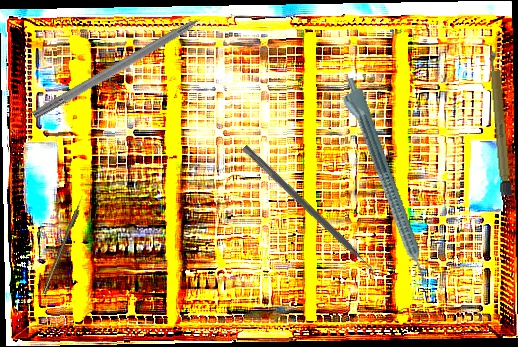Handpiece: (334, 75, 433, 291)
Hook Surgical: (31, 2, 225, 123), (41, 194, 86, 296)
Scalpel Handle: (488, 50, 513, 196)
Spatula Surgical: (236, 144, 382, 281)
